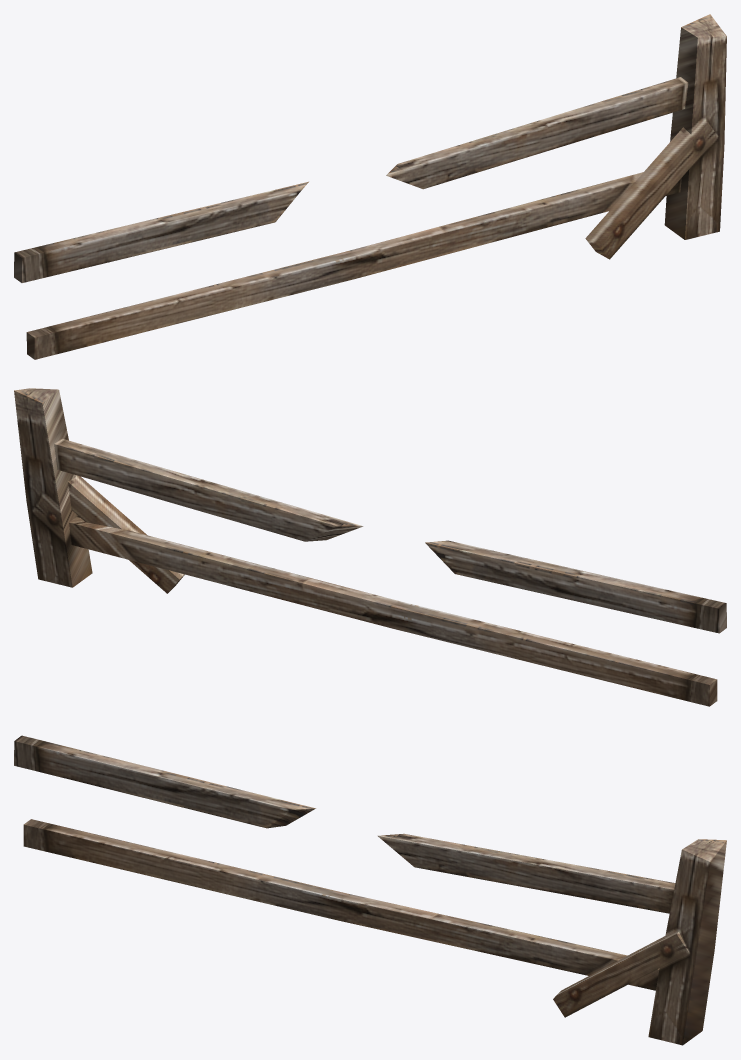
File: start_fence_03.glb
The picture shows the model from 3 angles, top to bottom: view 1: azimuth 30°, elevation 25°; view 2: azimuth 150°, elevation 25°; view 3: azimuth 330°, elevation 25°; orthographic projection.
Visible parts, largest first — view 1: start_fence_03_game; view 2: start_fence_03_game; view 3: start_fence_03_game.
Boxes of the visible parts, x1,y1,x2,y2 form: start_fence_03_game: [14, 14, 726, 359]; start_fence_03_game: [14, 388, 726, 706]; start_fence_03_game: [14, 735, 726, 1045].
Size of the model in its own units: 5 by 1.31 by 0.4061.
1 material, 1 textured.
